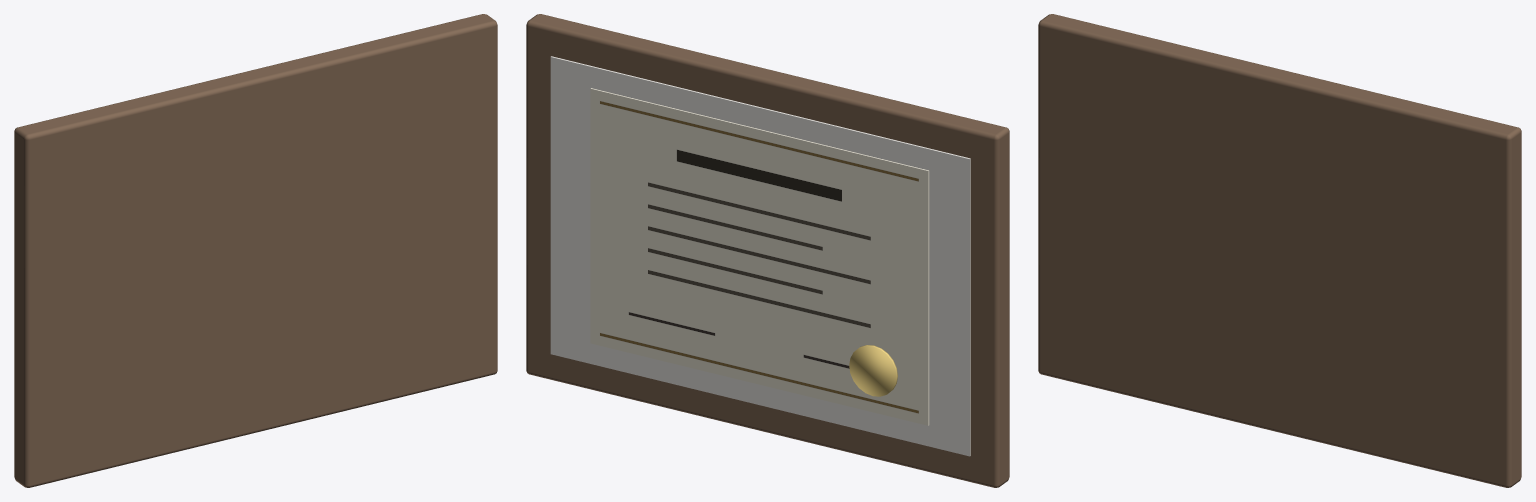
Rendered from escena.casa.diploma.fbx.
The picture shows the model from 3 angles, left to right: view 1: azimuth 30°, elevation 25°; view 2: azimuth 150°, elevation 25°; view 3: azimuth 330°, elevation 25°; orthographic projection.
Visible parts, largest first — view 1: Marco; view 2: Diploma, Marco, Paspartu, Sello; view 3: Marco.
Boxes of the visible parts, x1,y1,x2,y2 form: Marco: (14,14,497,487); Diploma: (590,88,929,425); Marco: (526,14,1009,487); Paspartu: (550,56,970,456); Sello: (849,345,897,396); Marco: (1038,14,1521,487).
Bounding box in the file's own units: 0.7 × 0.5 × 0.0435.
4 materials, 1 textured.
